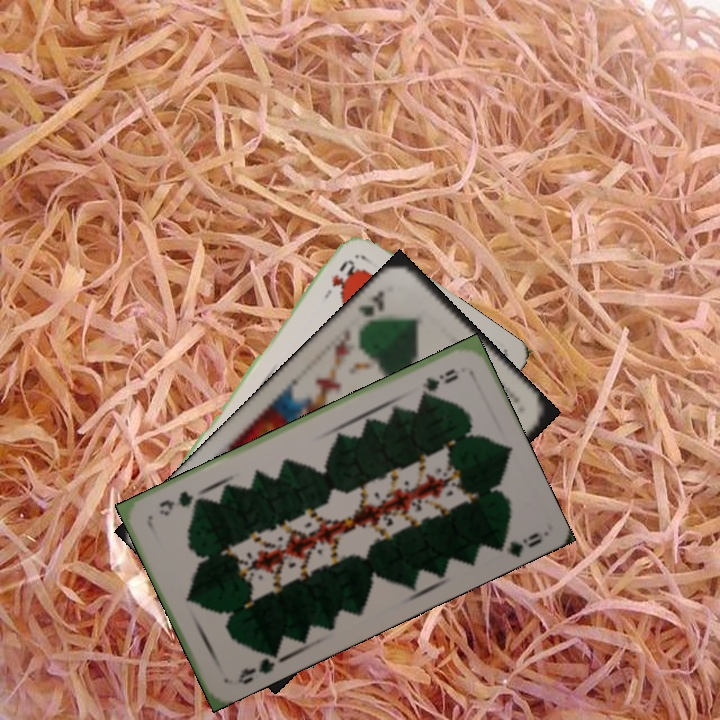G9: (233, 648, 280, 687), (415, 364, 462, 398)
GK: (353, 286, 387, 319)
HO: (319, 255, 358, 302)
